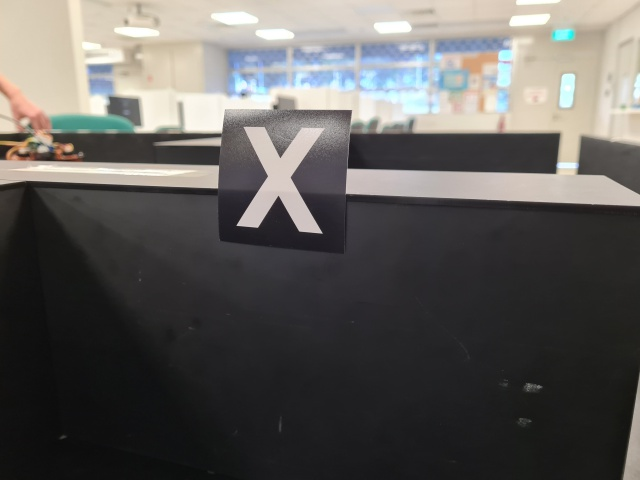alphabet_x: (219, 107, 353, 254)
